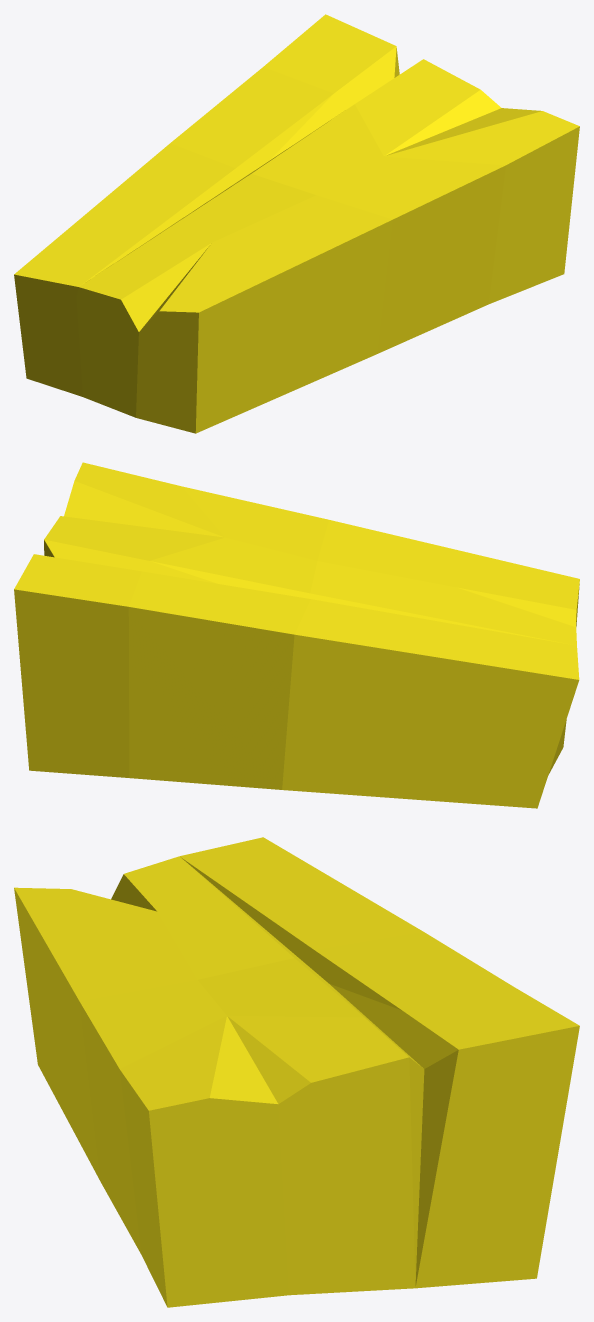
Rendered from pineapple chunk_fixed scale.glb.
The picture shows the model from 3 angles, top to bottom: view 1: azimuth 30°, elevation 25°; view 2: azimuth 150°, elevation 25°; view 3: azimuth 270°, elevation 25°; orthographic projection. The views are drawn at different scales.
Parts seen in each view (by area): view 1: Pineapple.001; view 2: Pineapple.001; view 3: Pineapple.001.
Boxes of the visible parts, box(x1,y1,x2,y2) form: Pineapple.001: box(14, 14, 579, 433); Pineapple.001: box(14, 462, 579, 808); Pineapple.001: box(14, 837, 579, 1307).
Bounding box in the file's own units: 0.0644 × 0.0224 × 0.0449.
